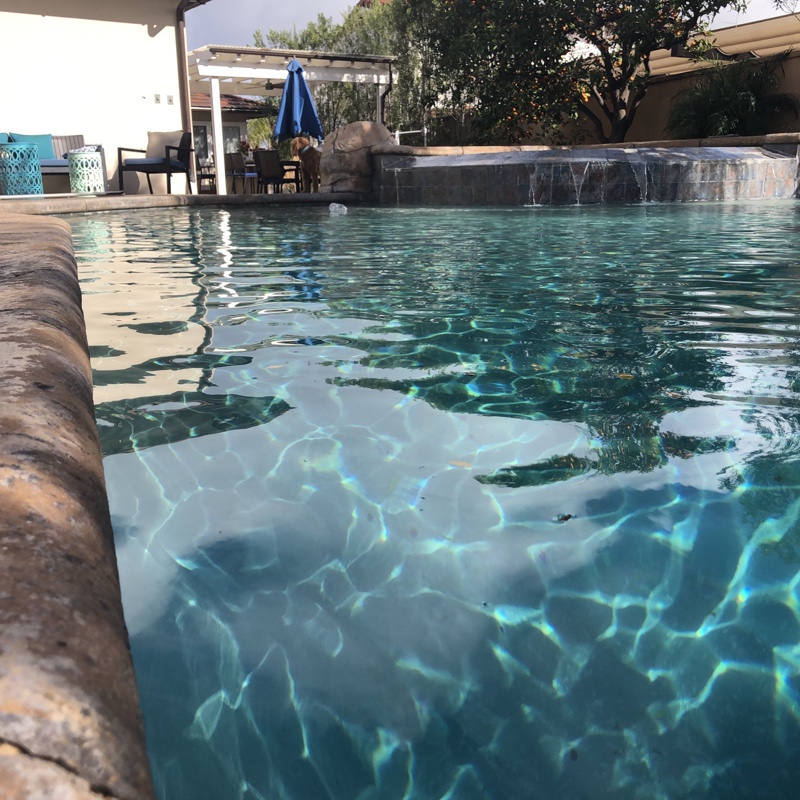Plastic Bottle: (326, 199, 349, 217)
